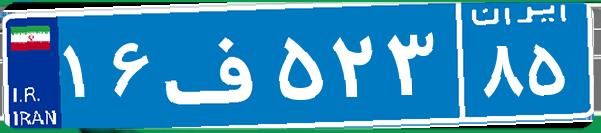1: (57, 26, 110, 107)
2: (330, 28, 385, 110)
3: (385, 28, 445, 110)
5: (273, 28, 330, 110), (525, 38, 570, 115)
6: (110, 28, 158, 105)
8: (475, 38, 525, 113)
ف: (158, 15, 273, 115)
